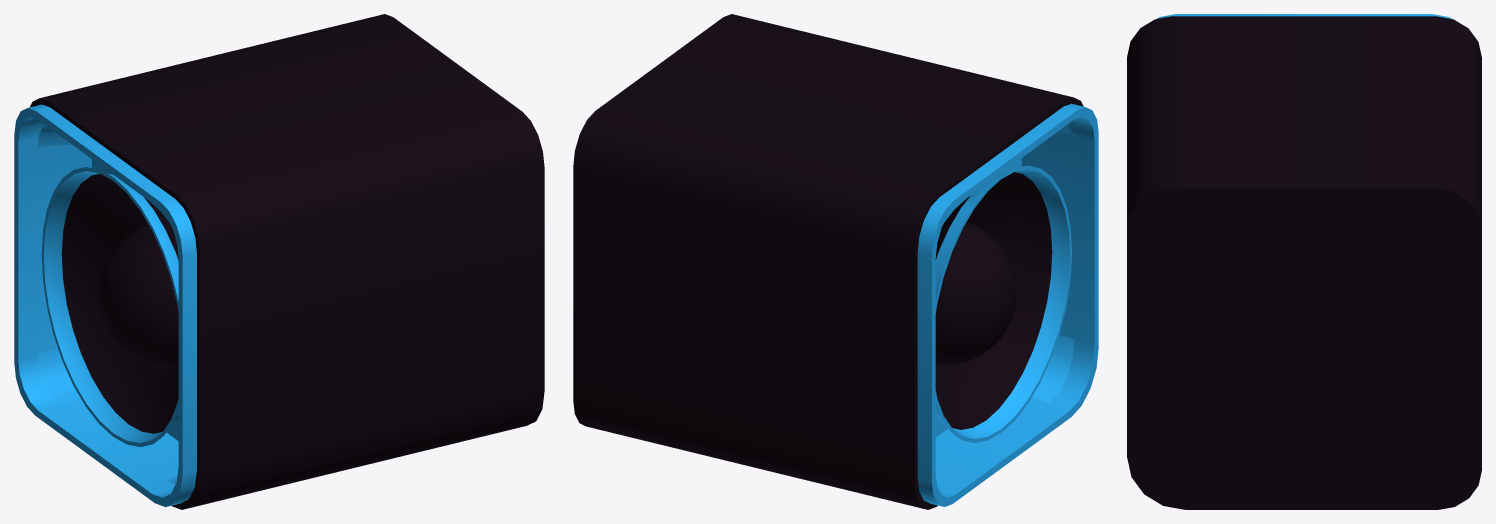
File: mini_sound_box.glb
The picture shows the model from 3 angles, left to right: view 1: azimuth 30°, elevation 25°; view 2: azimuth 150°, elevation 25°; view 3: azimuth 270°, elevation 25°; orthographic projection. The views are drawn at different scales.
Parts seen in each view (by area): view 1: Circle.001_0; view 2: Circle.001_0; view 3: Circle.001_0.
Part boxes in pixels (left/top/right/bottom): Circle.001_0: left=14, top=14, right=544, bottom=509; Circle.001_0: left=573, top=14, right=1098, bottom=509; Circle.001_0: left=1127, top=14, right=1481, bottom=509.
Size of the model in its own units: 2.39 by 2 by 2.
